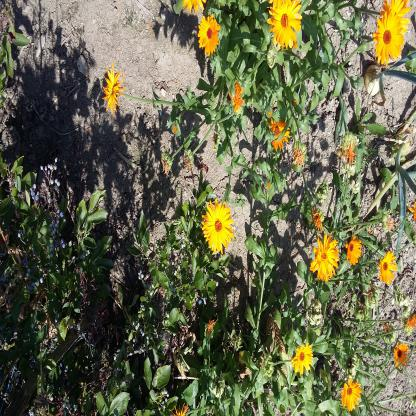marigold: (180, 160, 214, 219), (12, 346, 44, 404), (113, 365, 149, 415), (77, 134, 106, 178), (6, 378, 37, 415), (292, 300, 314, 348), (194, 358, 218, 401), (125, 265, 150, 301), (53, 3, 76, 38), (102, 40, 124, 74), (19, 132, 38, 165), (6, 47, 25, 76), (53, 150, 71, 180)
